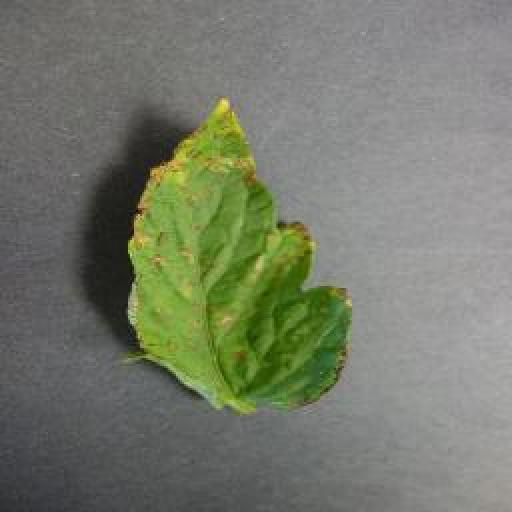Bacterial Spot: (120, 94, 359, 418)
